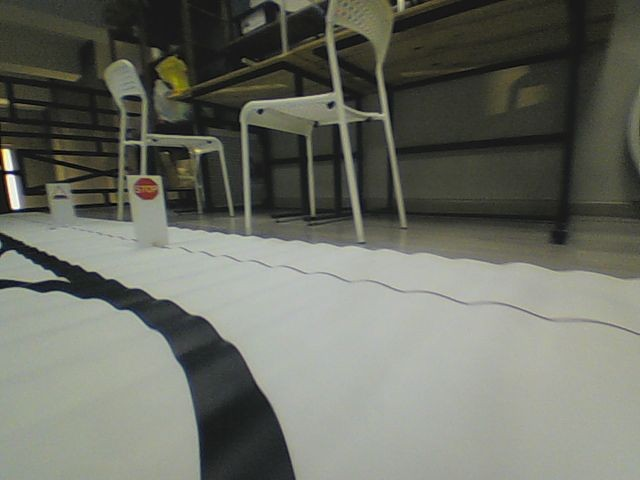Stop: (133, 176, 159, 200)
